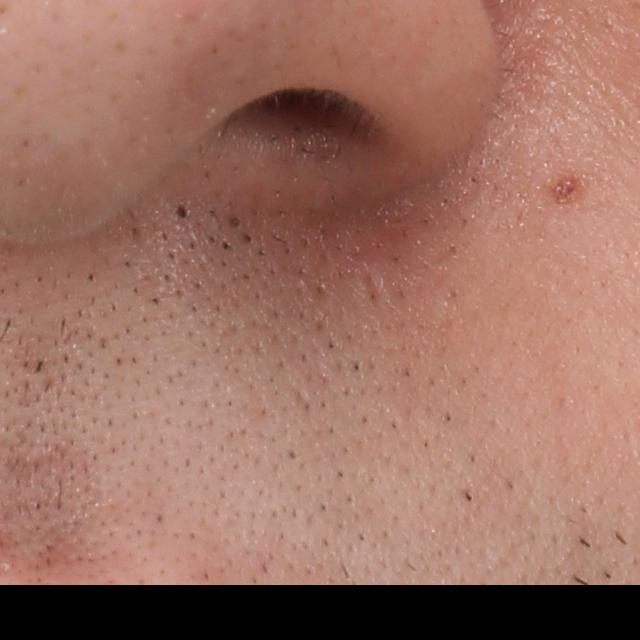nevus: (546, 171, 593, 216)
